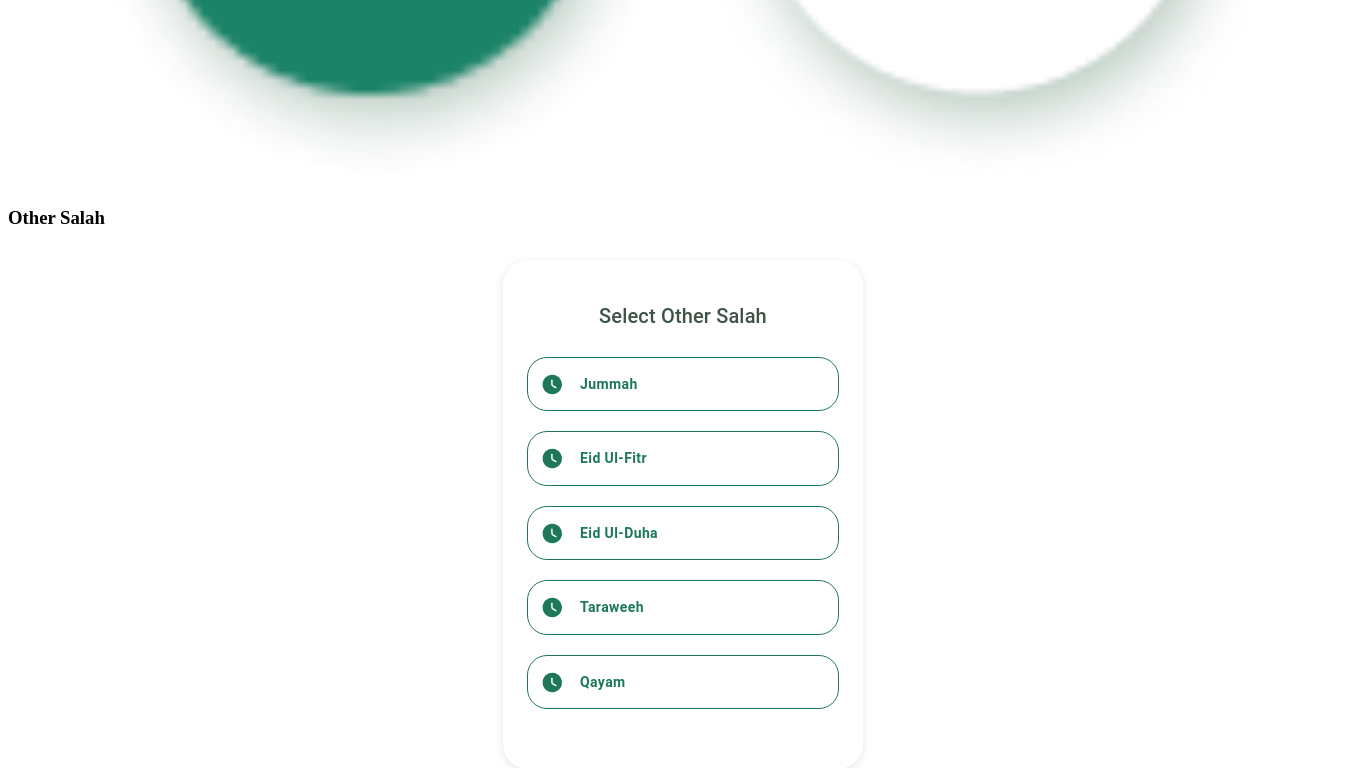
OtherSalahOptions Component › opens the form when a salah option is clicked
(page scrolled)
Click the button "Jummah" at (609,384), box left=527, top=357, right=839, bottom=411
(page scrolled)
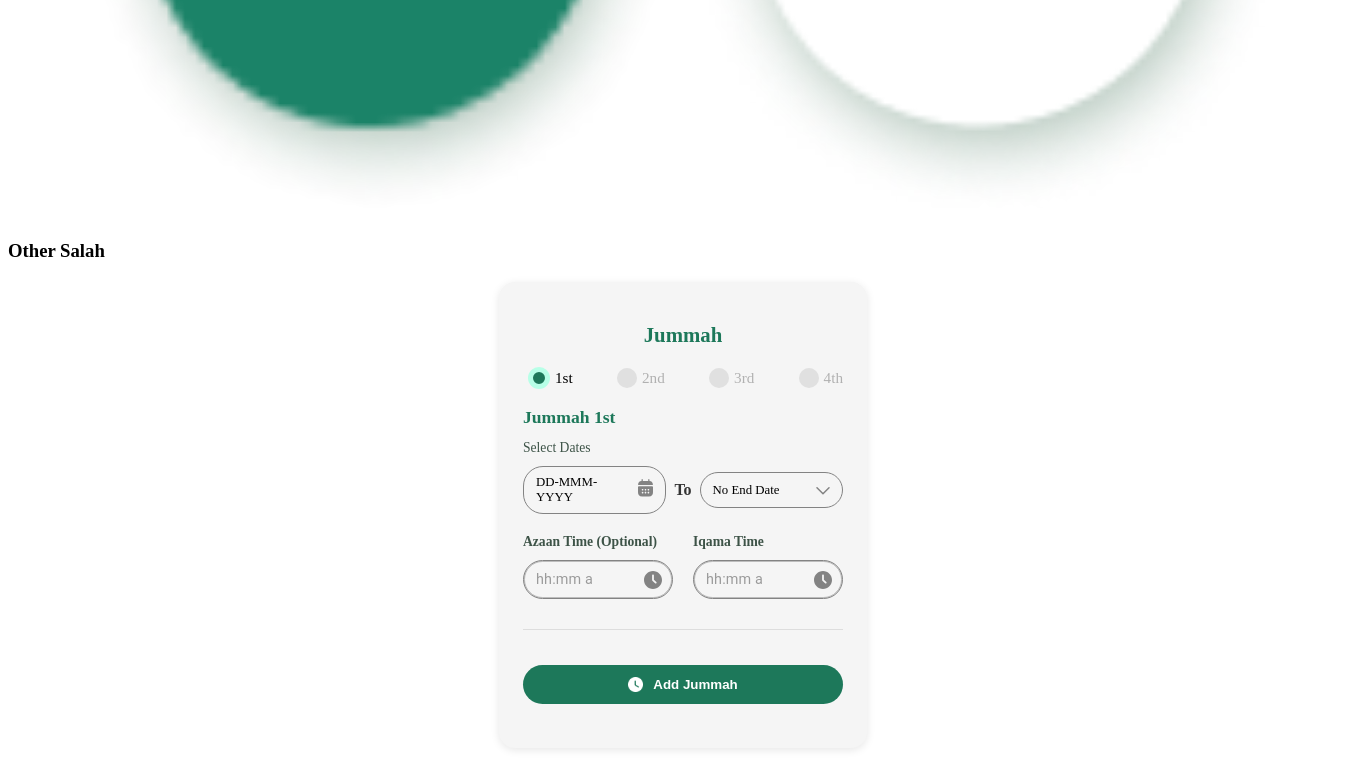
Check: the heading "Select Other Salah" is gone
Check: the element with test id "other-salah-form" is shown, box left=499, top=282, right=867, bottom=748
